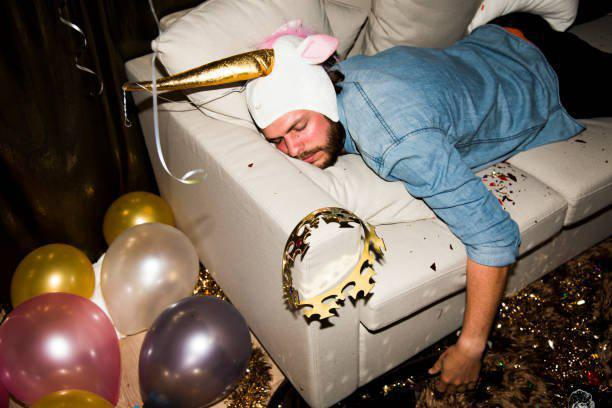Drunk: (258, 95, 339, 167)
